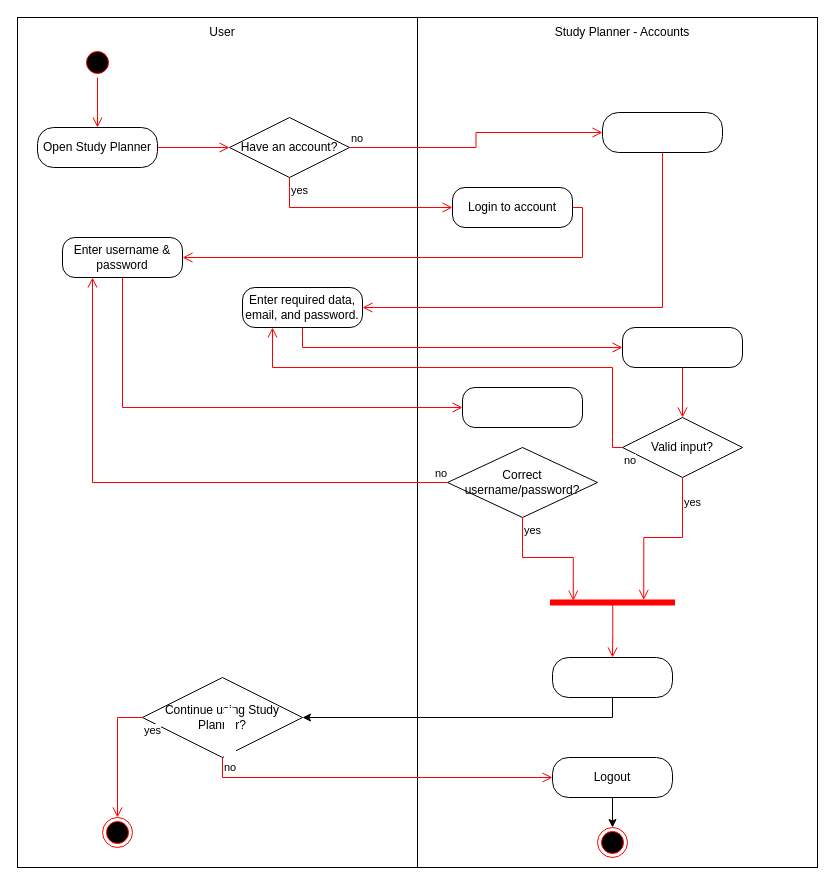
The diagram is 835 pixels wide and 885 high, and some of its shapes have lost their labels. Each missing label, with the centre of its shape:
"Authenticate user" goes at pixel 522 407.
"Create an account" goes at pixel 662 132.
"Display dashboard / calendar" goes at pixel 612 677.
"Validate data" goes at pixel 682 347.
